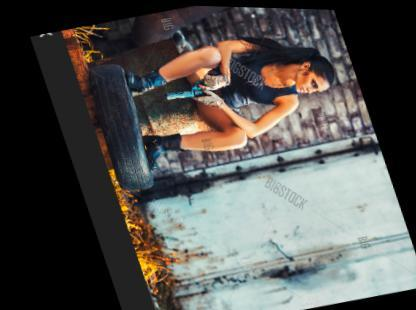pistol: (158, 70, 215, 102)
